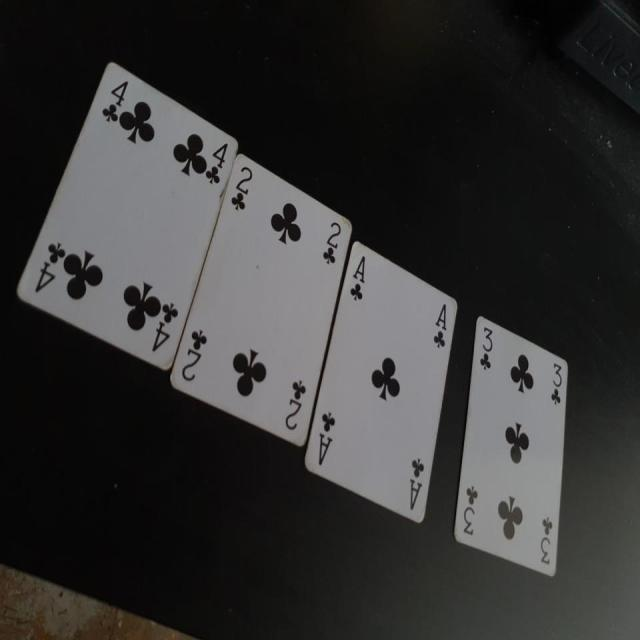2 Trefoils: (162, 152, 353, 447)
3 Trefoils: (454, 312, 570, 581)
4 Trefoils: (18, 62, 240, 372)
A Trefoils: (302, 239, 458, 526)
